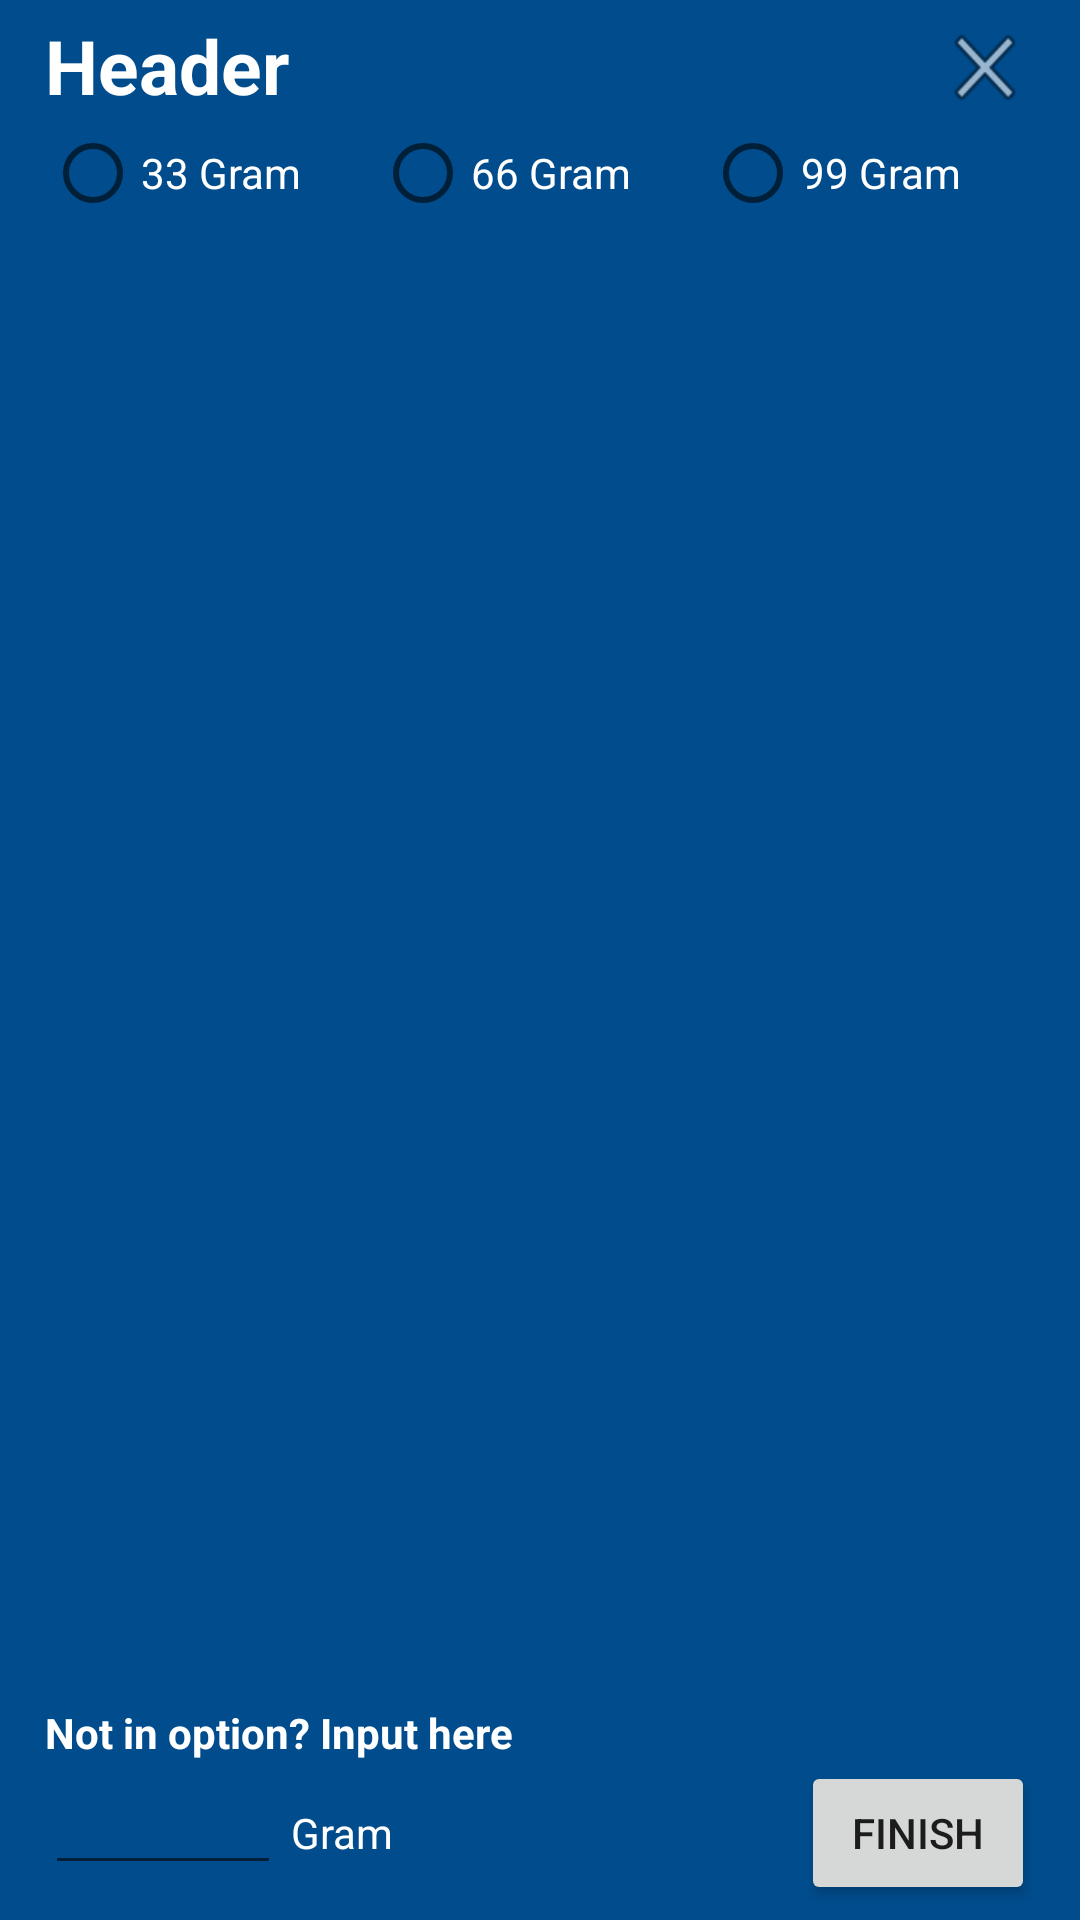

Screen size 1080 × 1920. Icon name, then its center in pixels as point (x, y):
close clear cancel: point (985, 67)
